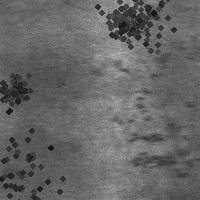rolled-in_scale: (117, 67, 197, 178), (78, 0, 192, 61), (0, 119, 68, 200), (97, 0, 151, 44), (0, 65, 34, 111), (117, 1, 158, 35)
